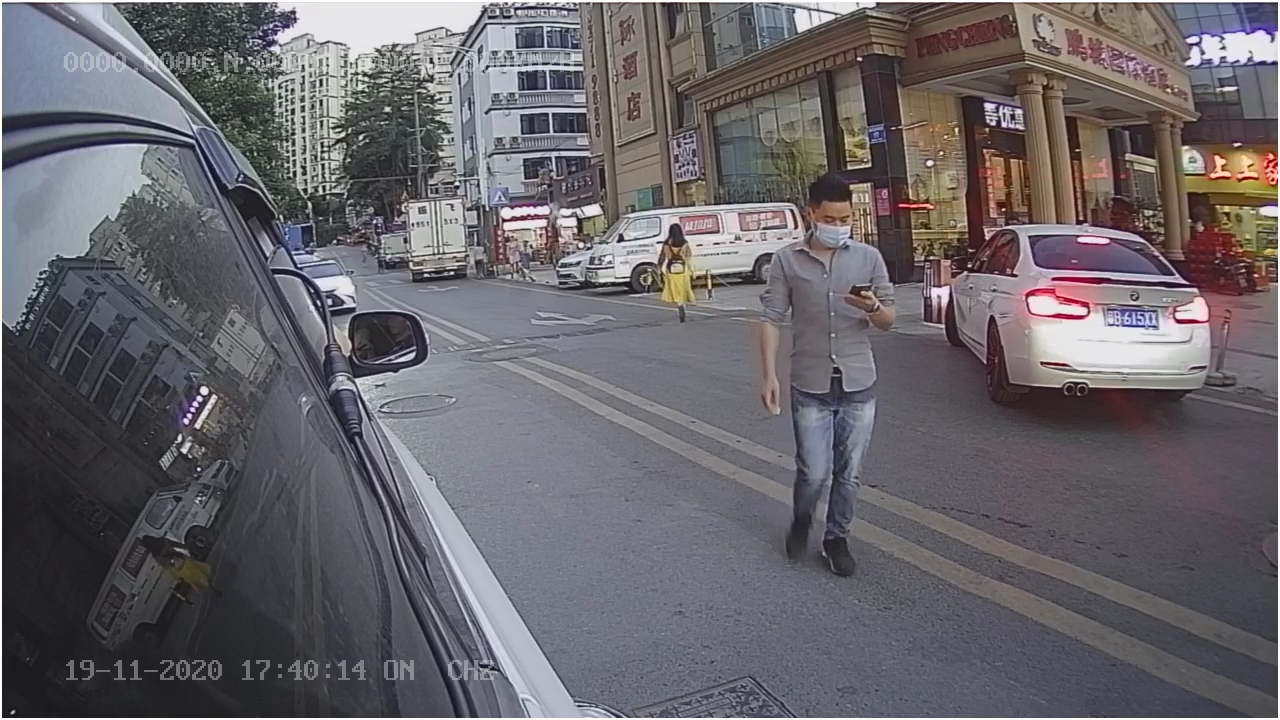person: (749, 170, 905, 584)
